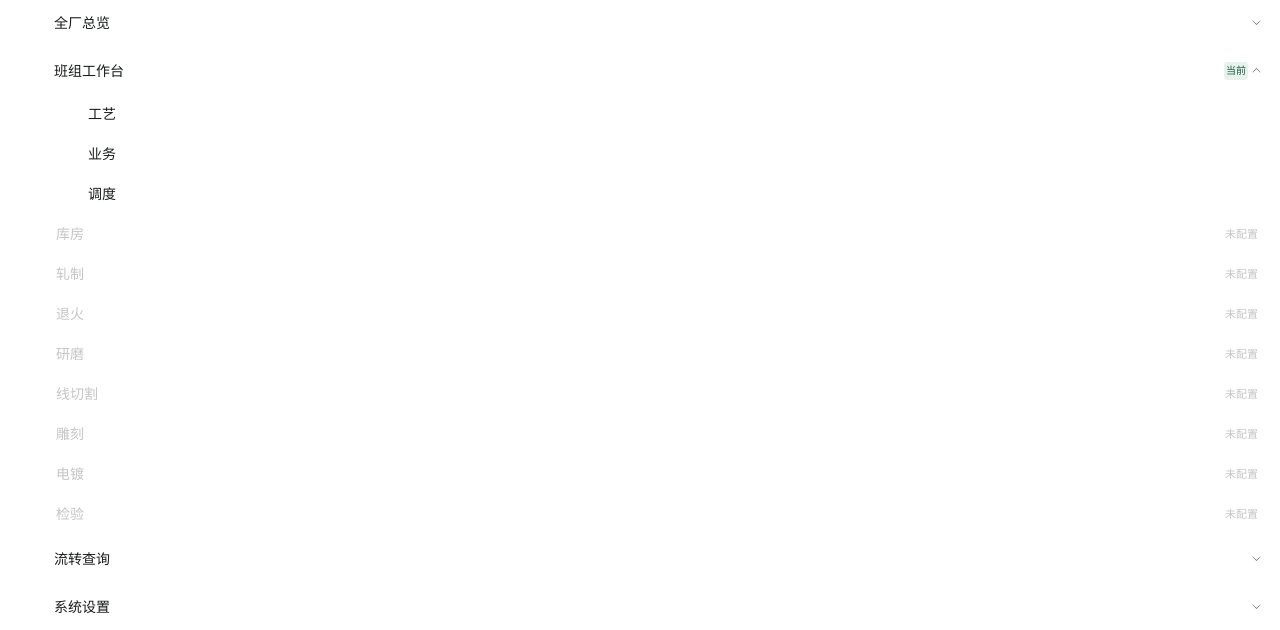
Test: two-level team navigation › expands and folds a first-level group without promoting its children
This screenshot has width=1280, height=630.
Click the element showing "班组工作台 当前": (89, 71) [54,62,1262,80]
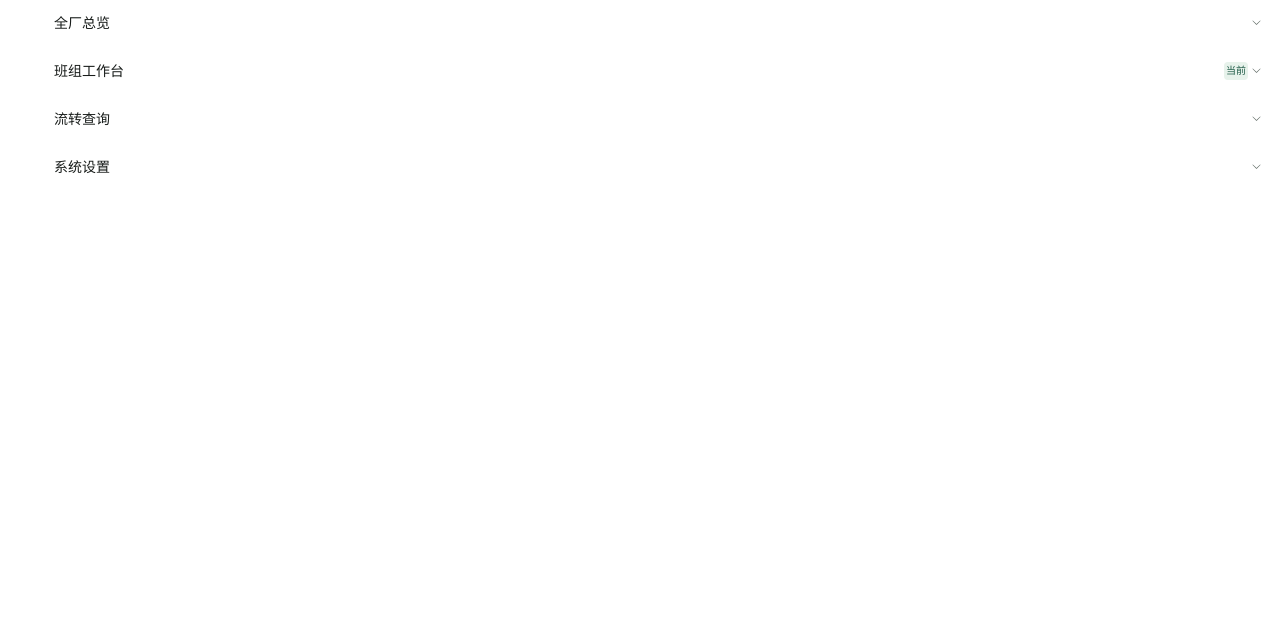
Check: the menu item "班组工作台 当前" is collapsed
Click the element showing "班组工作台 当前": (89, 71) [54,62,1262,80]
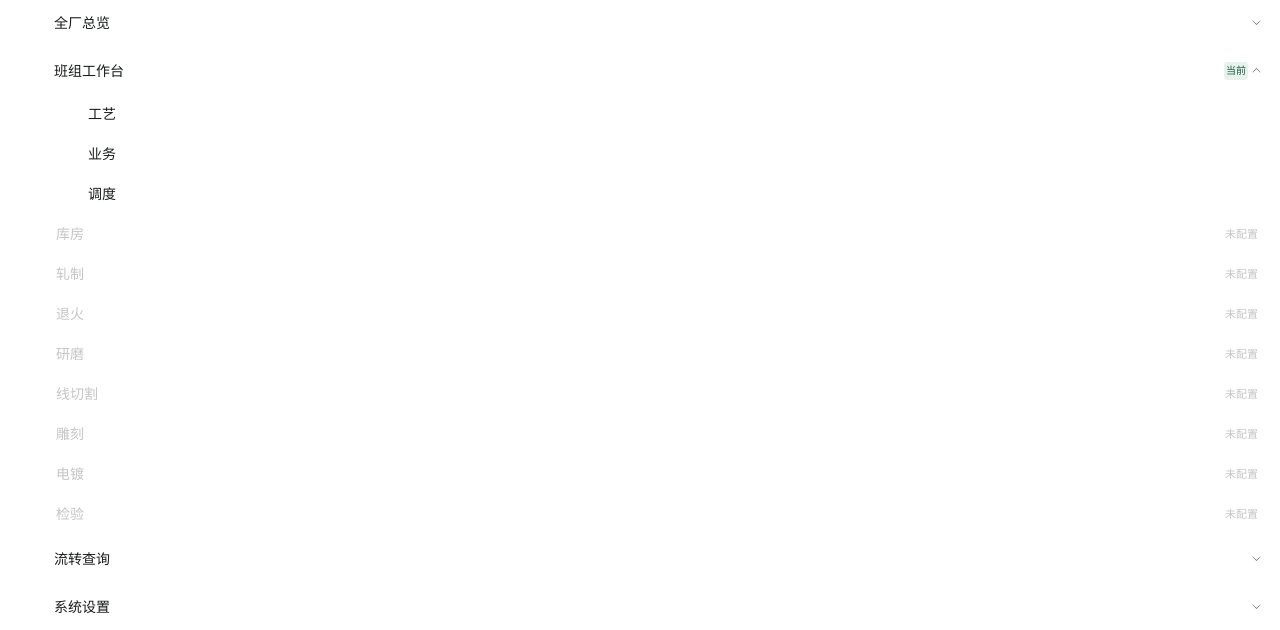
Check: the menu item with aria-label "班组工作台" is expanded
